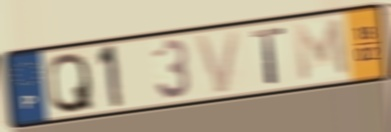1: (96, 42, 125, 112)
3: (149, 37, 192, 103)
M: (291, 16, 353, 85)
Q: (46, 50, 96, 115)
T: (249, 25, 288, 86)
V: (193, 28, 244, 96)
